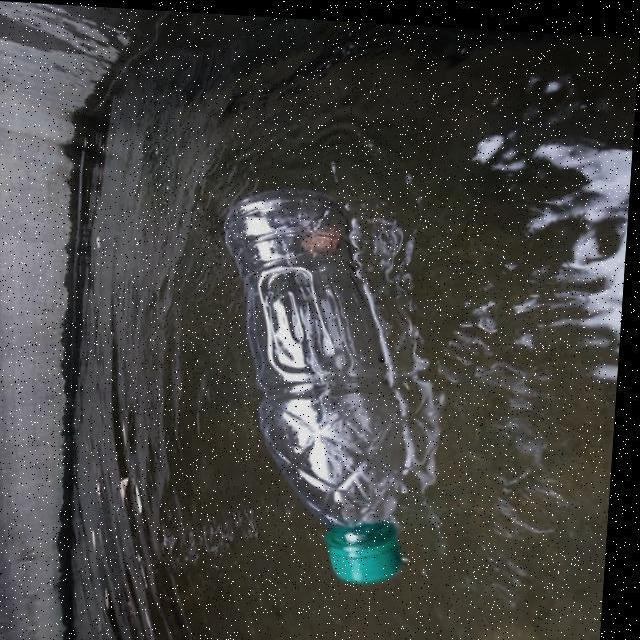Bottle: (217, 182, 423, 596)
